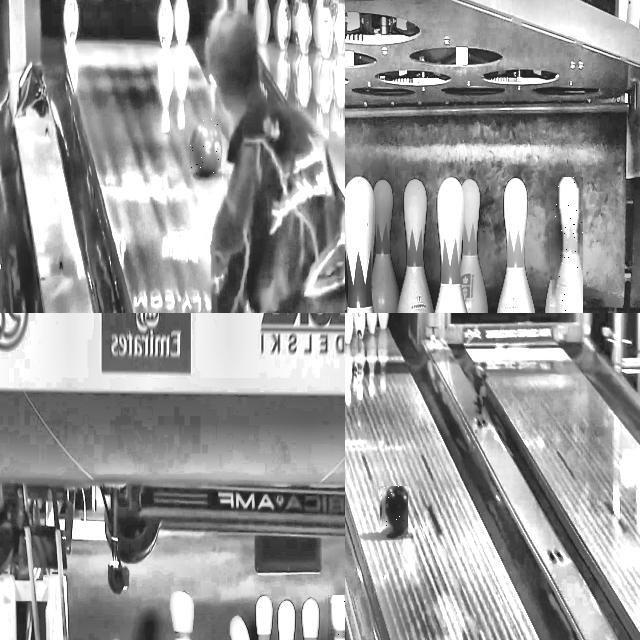bowling-ball: (190, 119, 221, 174), (383, 487, 407, 533)
bowling-pins: (497, 178, 535, 313), (396, 179, 433, 313), (434, 177, 467, 313), (345, 176, 374, 313), (553, 177, 582, 313), (460, 179, 488, 313), (372, 179, 399, 313), (256, 595, 272, 640)
sweep board: (102, 483, 345, 562)
